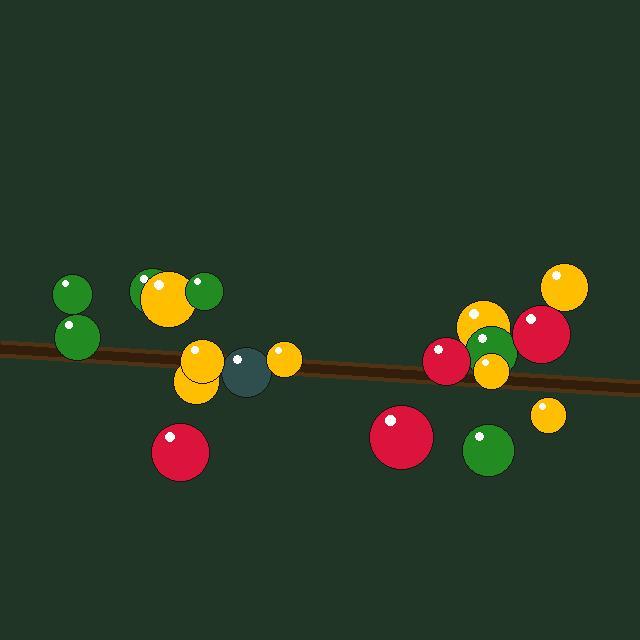Dry_Damaged: (221, 347, 271, 397)
Ripe: (369, 405, 433, 469), (151, 423, 209, 481), (512, 305, 570, 363), (422, 337, 470, 385)
Ripening: (140, 271, 196, 327), (456, 300, 510, 354), (540, 263, 588, 311), (173, 358, 219, 404), (180, 339, 224, 383), (266, 341, 302, 377), (473, 353, 509, 389), (530, 397, 566, 433)
Unripe: (462, 424, 514, 476), (465, 326, 517, 378), (129, 268, 175, 314), (54, 314, 100, 360), (52, 274, 92, 314), (185, 272, 223, 310)
